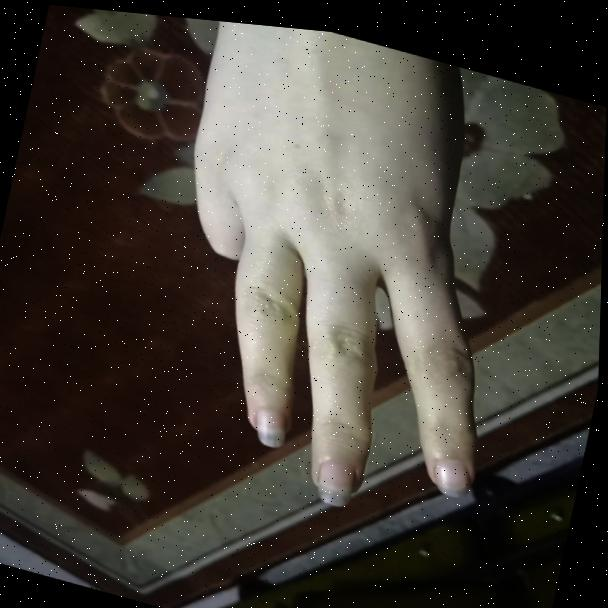five: (116, 10, 567, 549)
